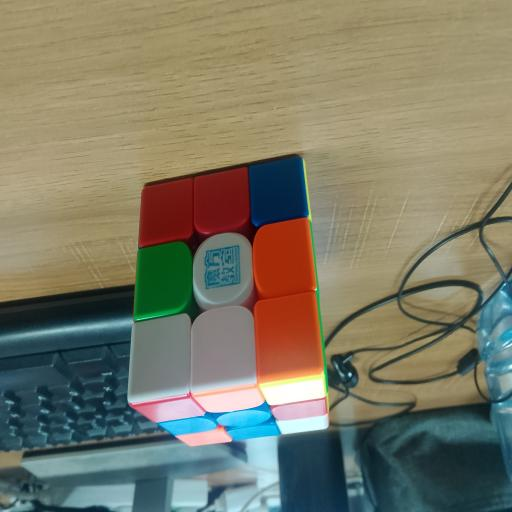cubic: (123, 160, 334, 458)
